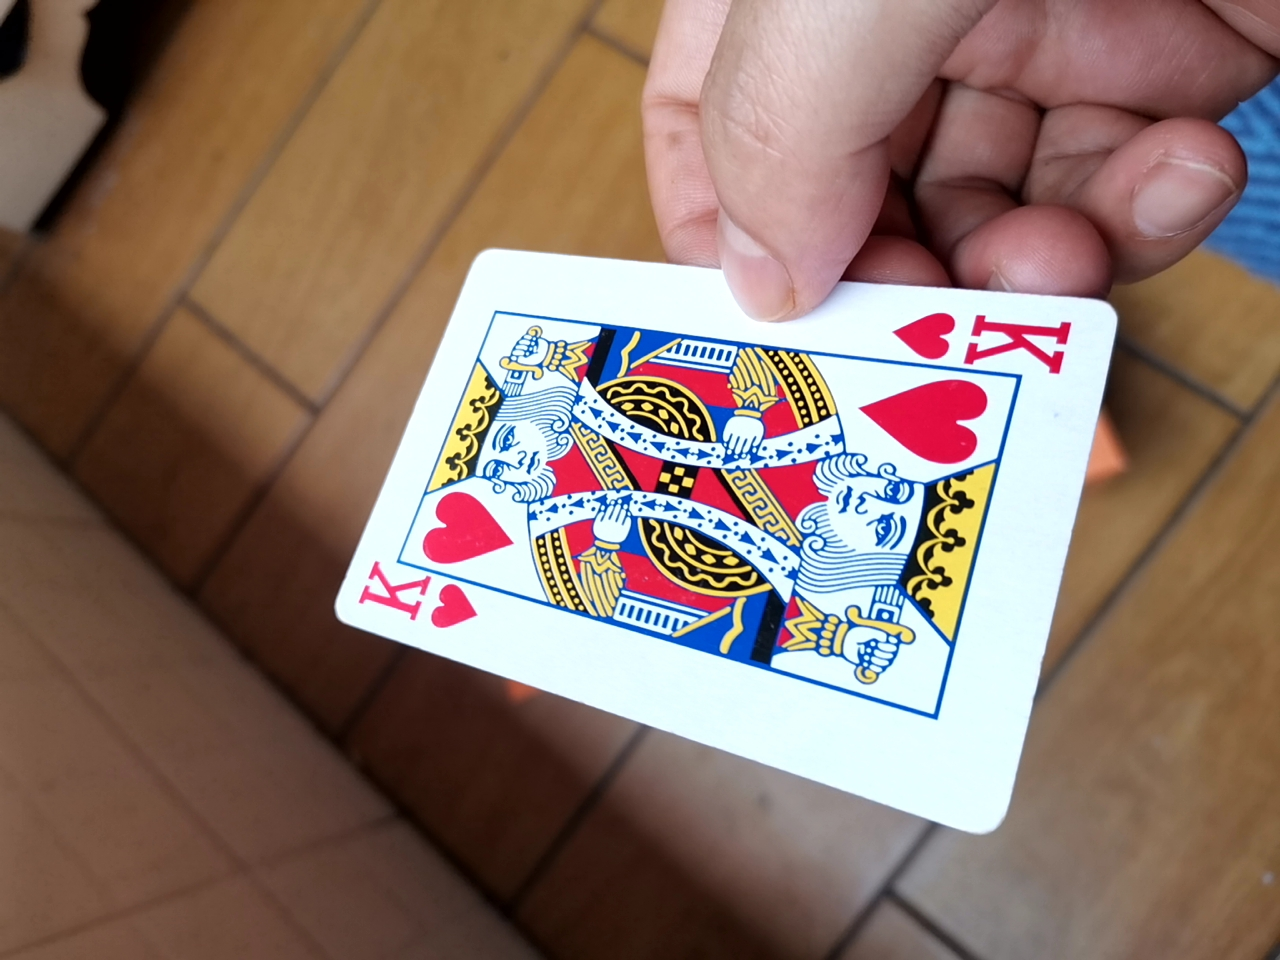hx k: (314, 251, 1121, 857)
